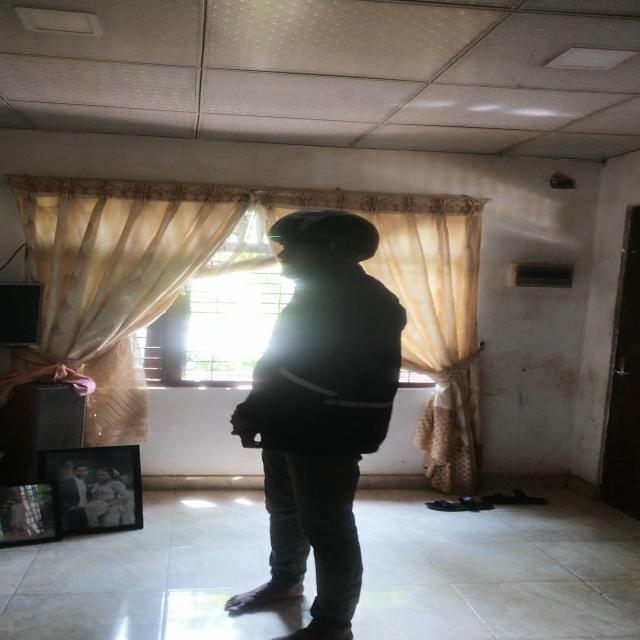Helmet_Wearer: (260, 208, 390, 294)
Jacket_Wearer: (234, 283, 407, 466)
Person: (231, 211, 412, 640)
